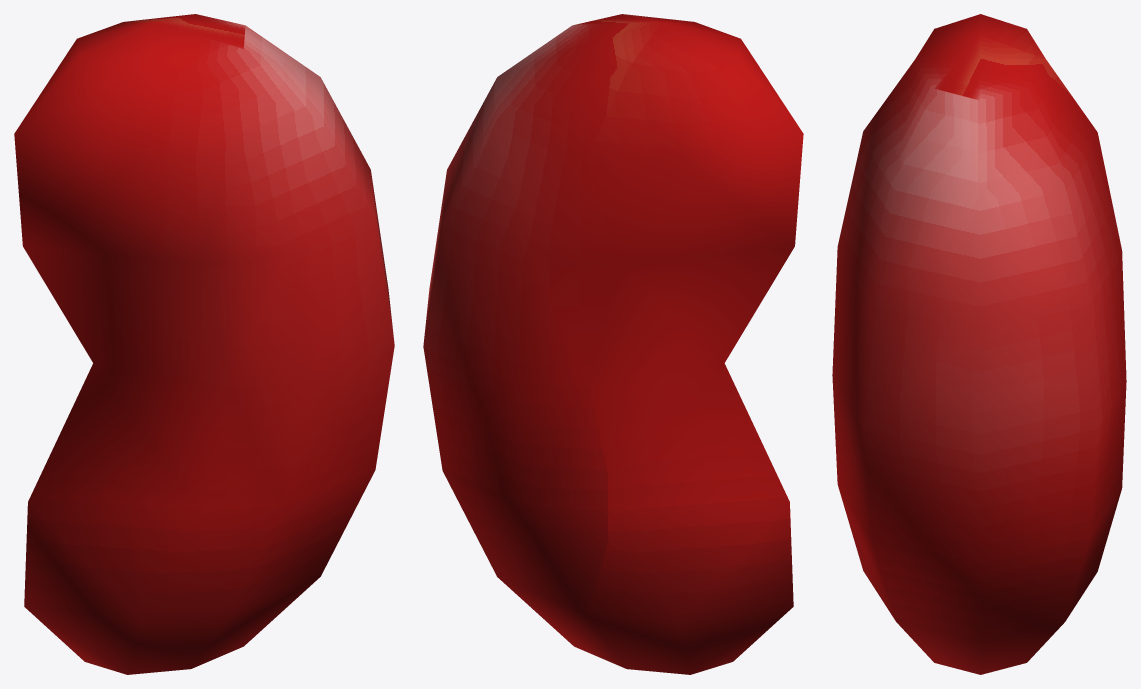
The model's file is bean2.obj.
3 renders of one model, left to right at view 1: azimuth 30°, elevation 25°; view 2: azimuth 150°, elevation 25°; view 3: azimuth 270°, elevation 25°, orthographic. The views are drawn at different scales.
Parts seen in each view (by area): view 1: bean:Mesh; view 2: bean:Mesh; view 3: bean:Mesh.
Part boxes in pixels (x1,y1,x2,y2): bean:Mesh: [14, 14, 394, 674]; bean:Mesh: [423, 14, 803, 674]; bean:Mesh: [832, 14, 1126, 674].
Bounding box in the file's own units: 20.6 × 34.01 × 14.58.
